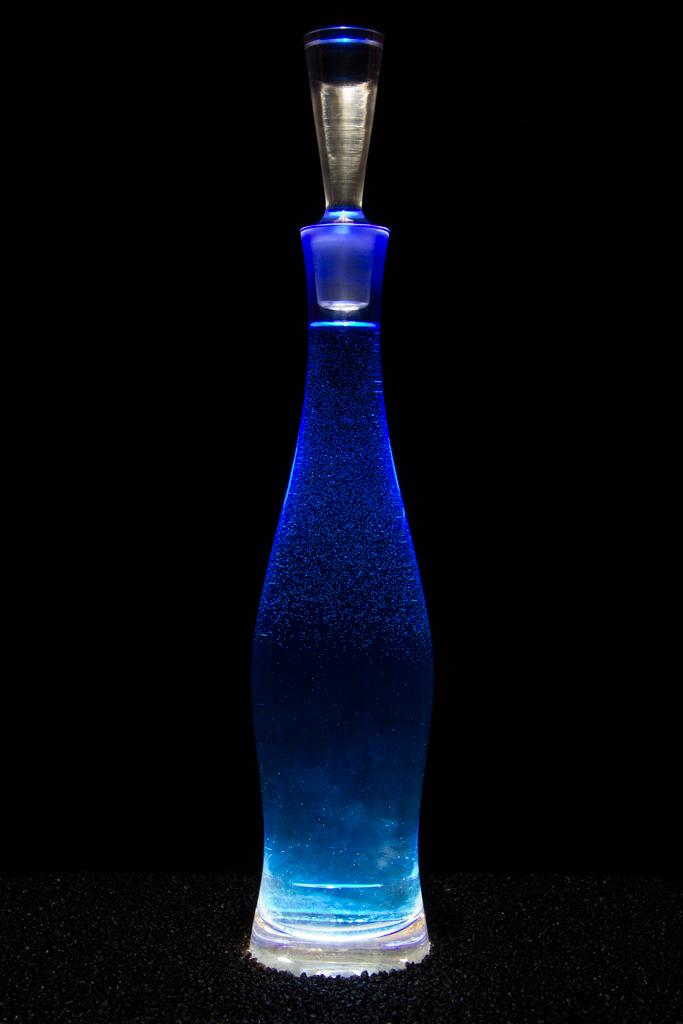bottle: (248, 25, 435, 979)
